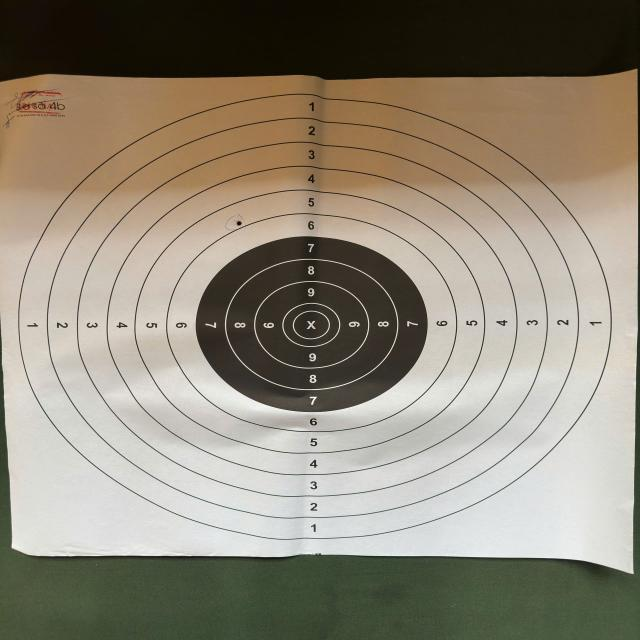bullet: (237, 220, 242, 226)
target: (0, 72, 636, 573)
